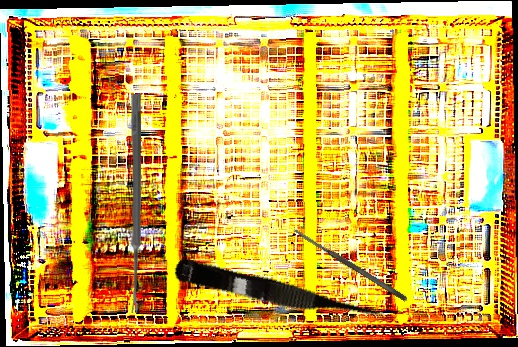Micro Scissor: (170, 256, 393, 335)
Spatula Surgical: (291, 226, 409, 303)
Surgical Spoon: (130, 94, 141, 313)
